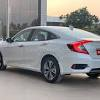Honda: (1, 26, 100, 83)
